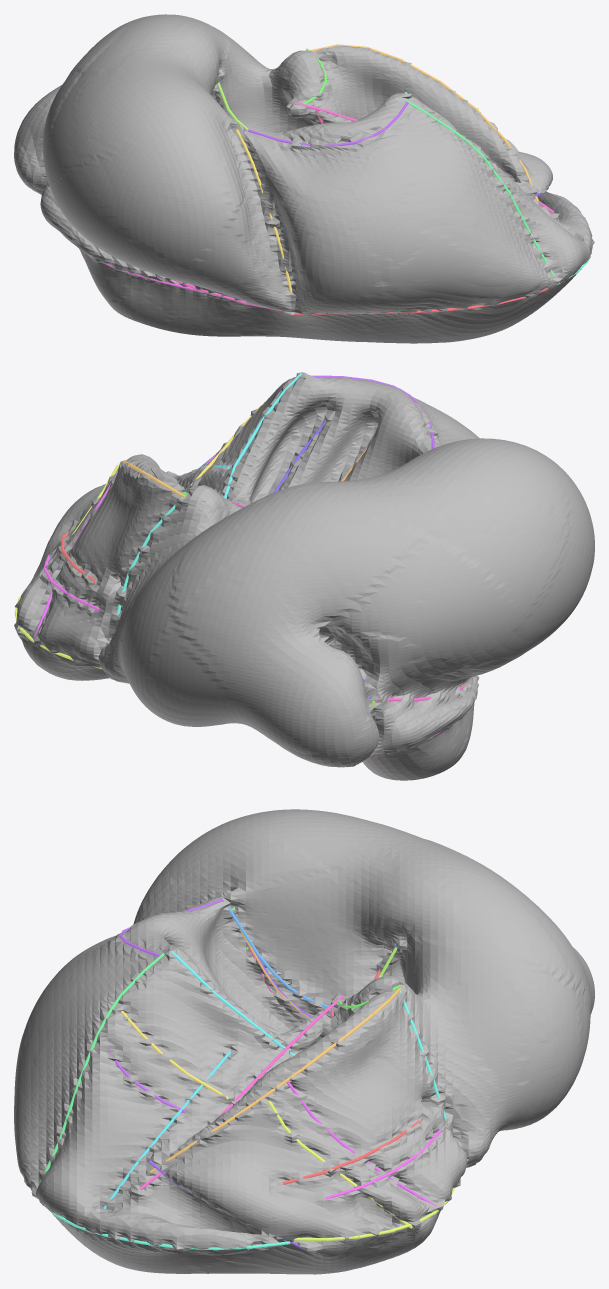
File: author1_building.gltf
3 renders of one model, top to bottom at view 1: azimuth 30°, elevation 25°; view 2: azimuth 150°, elevation 25°; view 3: azimuth 270°, elevation 25°, orthographic. The views are drawn at different scales.
Bounding box in the file's own units: 0.7933 × 0.4046 × 0.7543.
